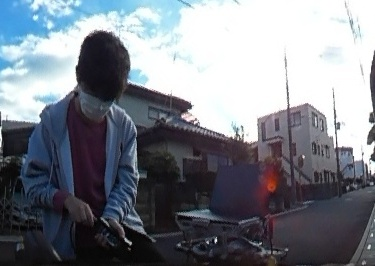person: (23, 34, 146, 266)
